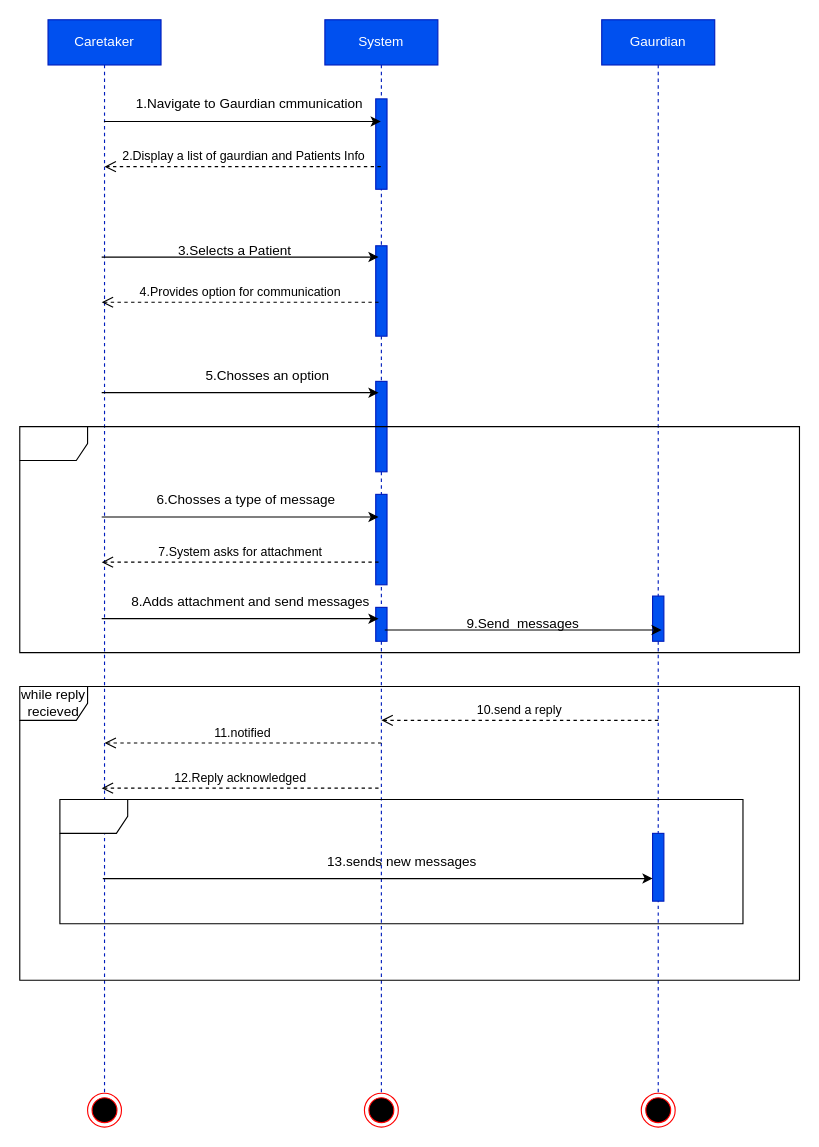
Some shapes in this 819 by 1147 pixel diagram are drawn without their labels. Each missing label, with the box of its shape:
frame: (59, 798, 743, 924)
seq if chosses to send messages: (19, 425, 799, 653)
